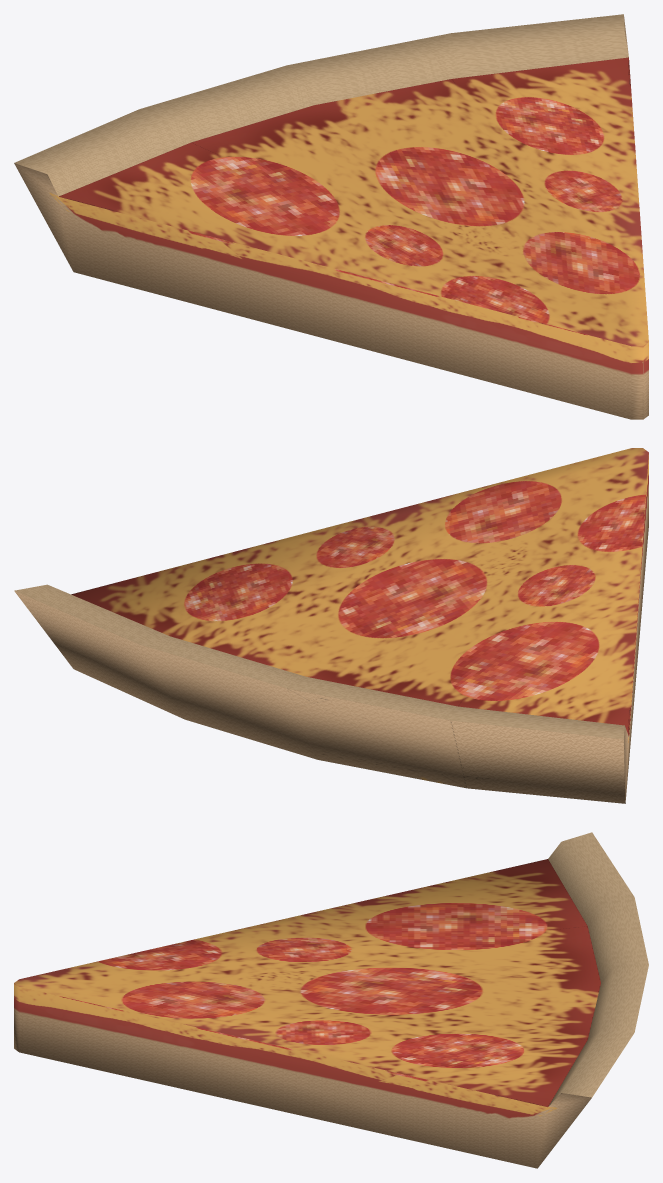
File: WorldItem_PizzaPepperoniSlice.fbx
3 views of the same model, one above another, from view 1: azimuth 30°, elevation 25°; view 2: azimuth 150°, elevation 25°; view 3: azimuth 270°, elevation 25° (orthographic). The views are drawn at different scales.
Parts seen in each view (by area): view 1: Pie_Lemonmeringue001; view 2: Pie_Lemonmeringue001; view 3: Pie_Lemonmeringue001.
Boxes of the visible parts, bbox=[...] form: Pie_Lemonmeringue001: bbox=[14, 14, 648, 419]; Pie_Lemonmeringue001: bbox=[14, 448, 648, 803]; Pie_Lemonmeringue001: bbox=[14, 832, 648, 1168].
Size of the model in its own units: 22.09 by 3.25 by 22.34.
